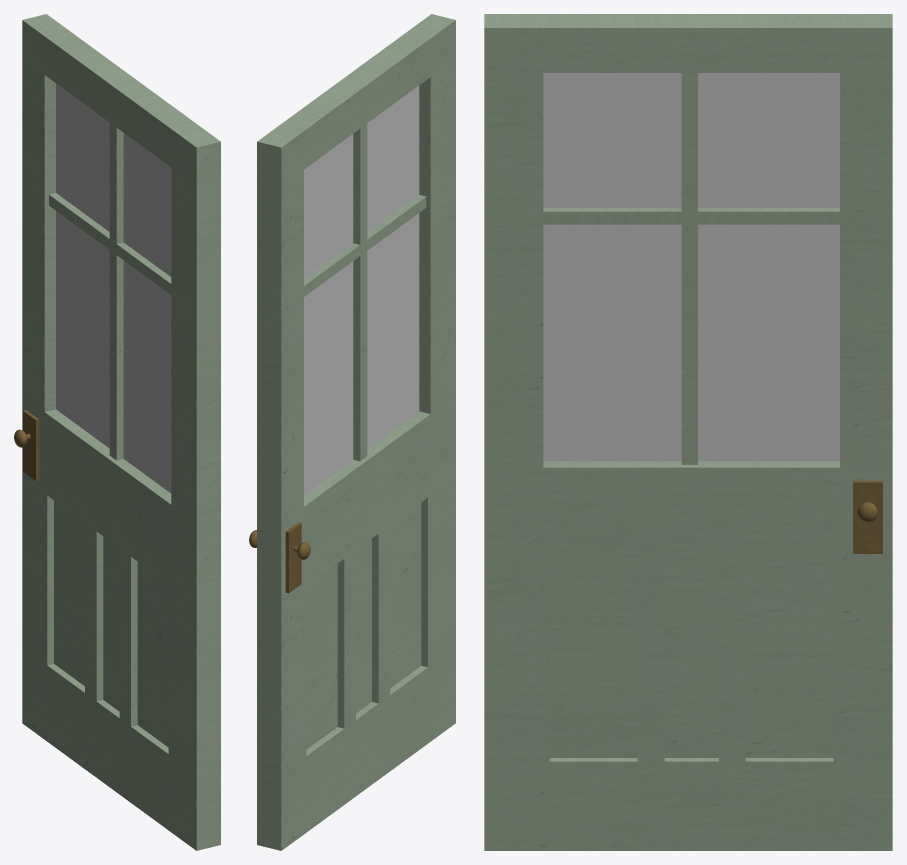
Rendered from SM_WD11_DOOR.fbx.
The picture shows the model from 3 angles, left to right: view 1: azimuth 30°, elevation 25°; view 2: azimuth 150°, elevation 25°; view 3: azimuth 270°, elevation 25°; orthographic projection. The views are drawn at different scales.
Parts seen in each view (by area): view 1: SM_WD11_DOOR; view 2: SM_WD11_DOOR; view 3: SM_WD11_DOOR.
Part boxes in pixels (left/top/right/bottom): SM_WD11_DOOR: left=14, top=14, right=220, bottom=850; SM_WD11_DOOR: left=249, top=14, right=455, bottom=850; SM_WD11_DOOR: left=484, top=14, right=892, bottom=850.
Size of the model in its own units: 21.91 by 113 by 252.
Materials: 3 (2 with a texture image).
